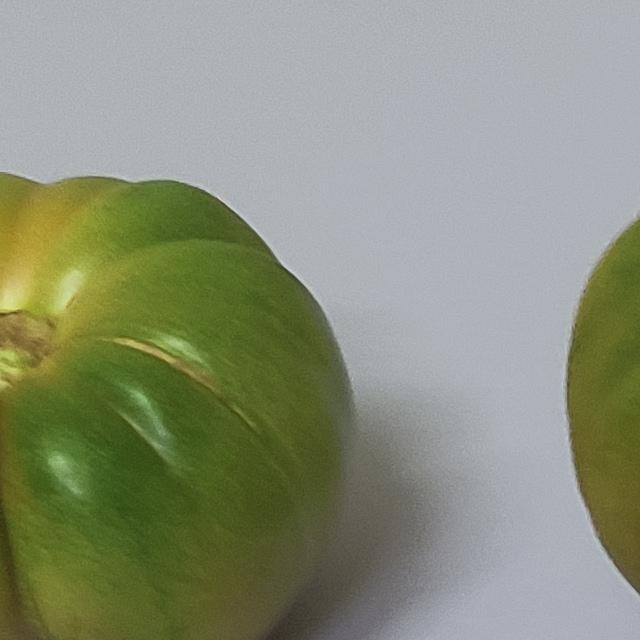tomato: (0, 124, 438, 640), (488, 0, 640, 640)
